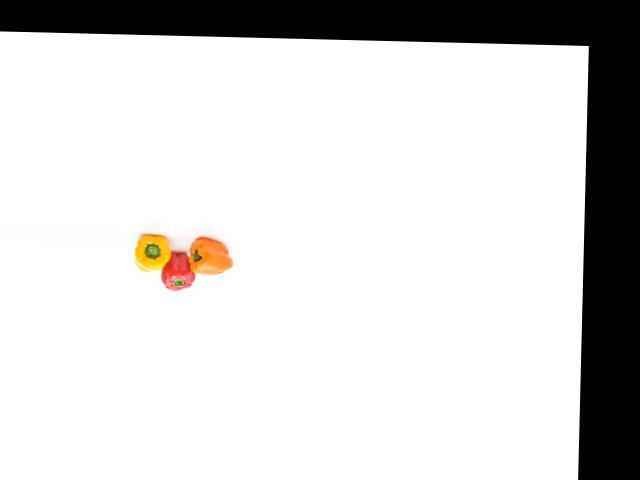bell_pepper: (131, 233, 176, 274)
